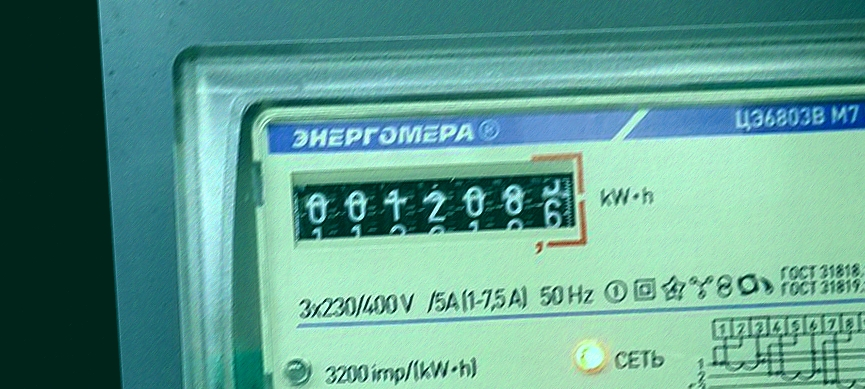0: (462, 179, 489, 216), (345, 183, 370, 221), (307, 185, 329, 223)
1: (386, 183, 405, 221)
2: (423, 185, 451, 221)
6: (540, 191, 566, 227)
8: (501, 178, 526, 215)
screen: (280, 139, 599, 276)
